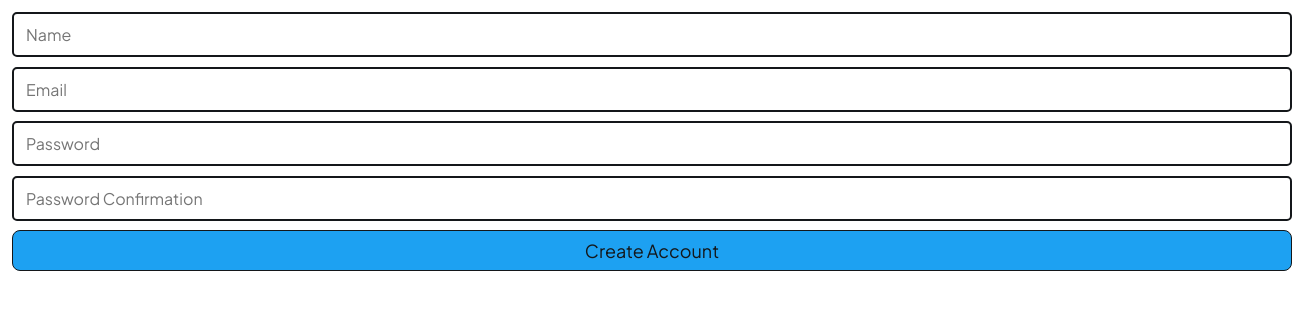
Test: FormRegister Component › should displays error when password and confirmation do not match
Type "John" into the field with placeholder "Name" at (652, 34), box [12,12,1292,57]
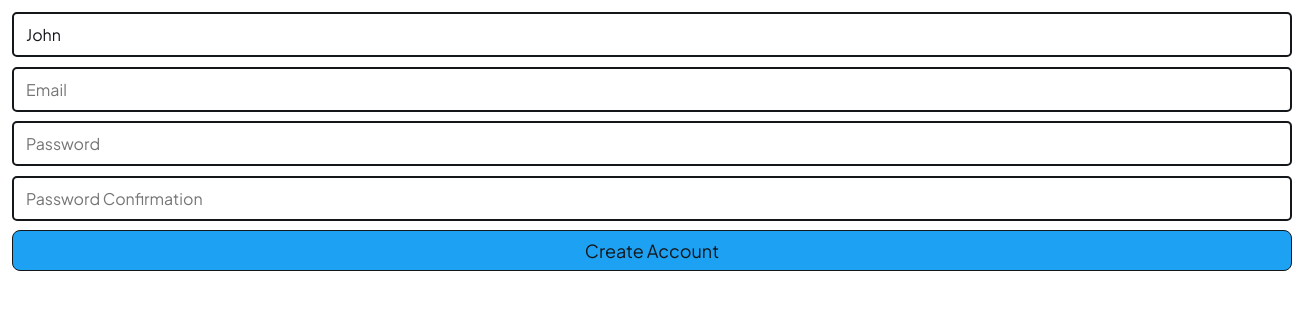
Type "john@example.com" into the field with placeholder "Email" at (652, 89), box [12,67,1292,112]
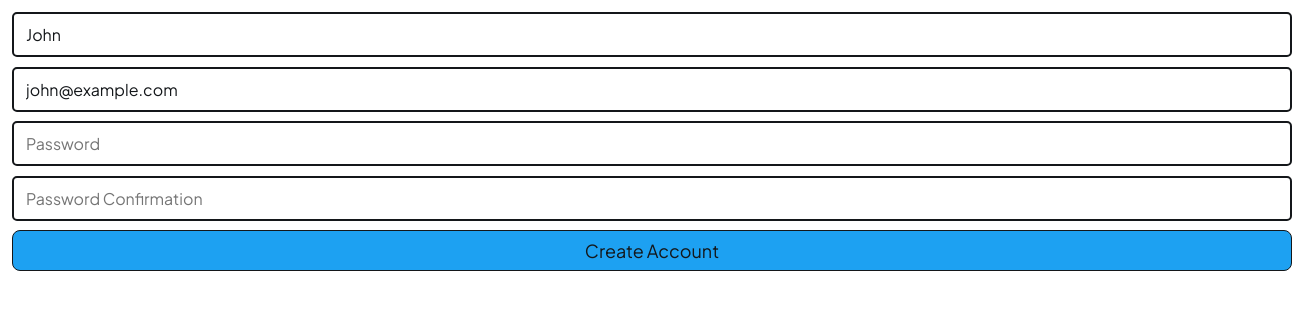
Type "pass123" into the password field with placeholder "Password" at (652, 144), box [12,121,1292,166]
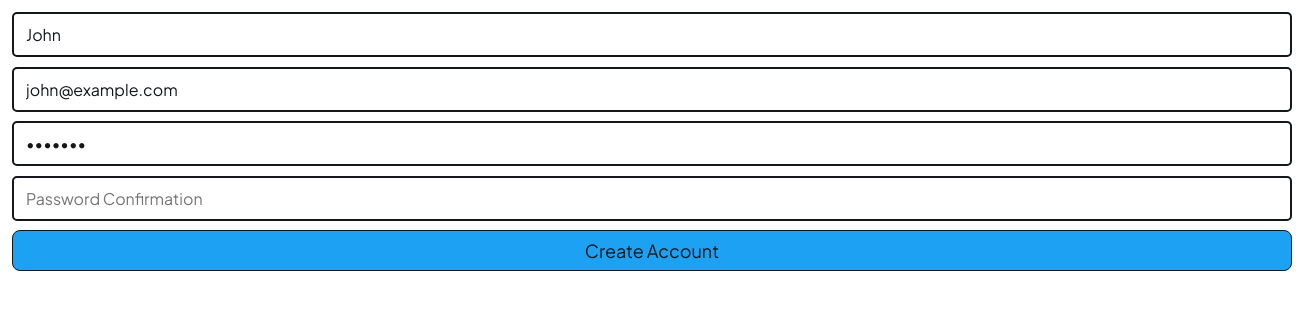
Type "pass124" into the password field with placeholder "Password Confirmation" at (652, 198), box [12,176,1292,221]
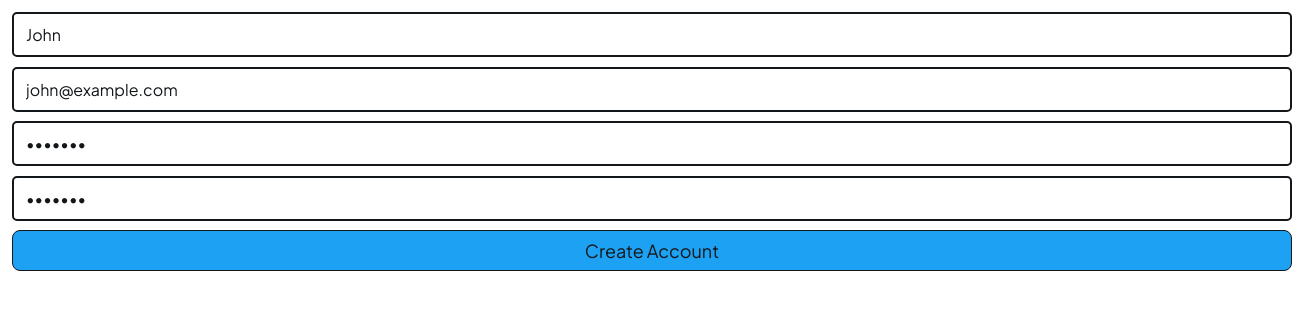
Click the button "Create Account" at (652, 251), box [12,230,1292,271]
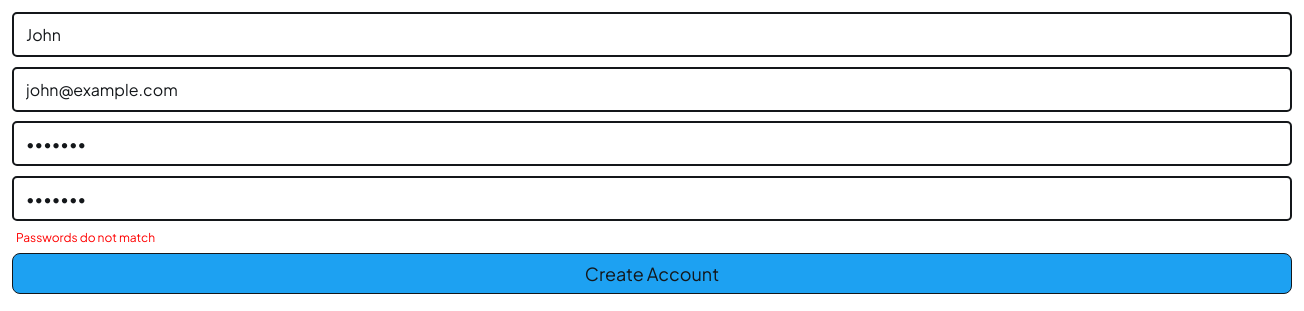
Now the text "Passwords do not match" is shown, box [16,230,155,245]
